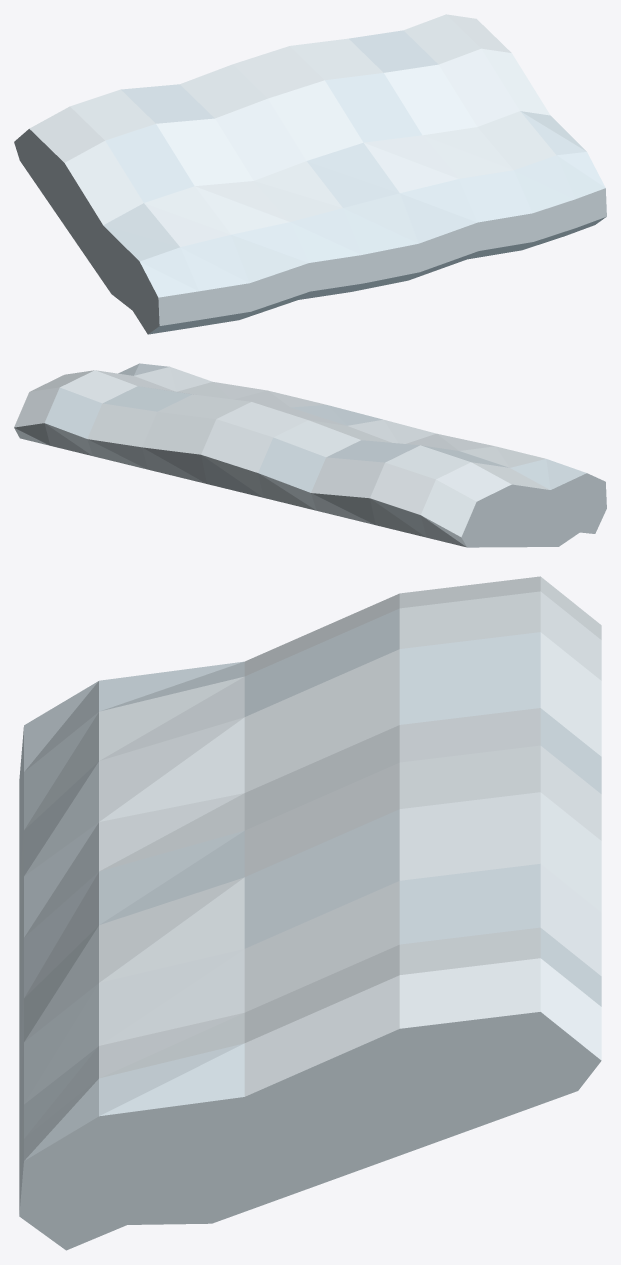
The picture shows the model from 3 angles, top to bottom: view 1: azimuth 30°, elevation 25°; view 2: azimuth 150°, elevation 25°; view 3: azimuth 270°, elevation 25°; orthographic projection. The views are drawn at different scales.
Parts seen in each view (by area): view 1: Snow_ContinuousCapAndRoundedEaveLip; view 2: Snow_ContinuousCapAndRoundedEaveLip; view 3: Snow_ContinuousCapAndRoundedEaveLip.
Boxes of the visible parts, bbox=[...] form: Snow_ContinuousCapAndRoundedEaveLip: bbox=[14, 14, 606, 334]; Snow_ContinuousCapAndRoundedEaveLip: bbox=[14, 363, 606, 547]; Snow_ContinuousCapAndRoundedEaveLip: bbox=[19, 576, 601, 1250].
Size of the model in its own units: 2.2 by 0.695 by 1.24.
